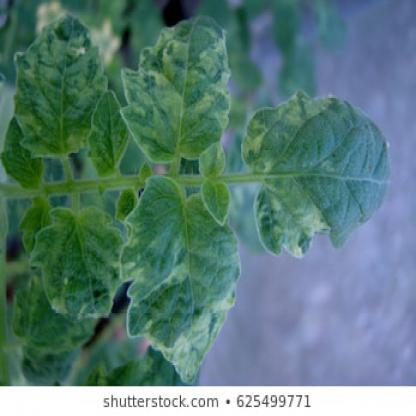Tomato leaf yellow virus: (244, 88, 396, 260), (112, 177, 238, 379), (119, 12, 235, 165), (9, 20, 110, 172), (30, 198, 128, 326)
